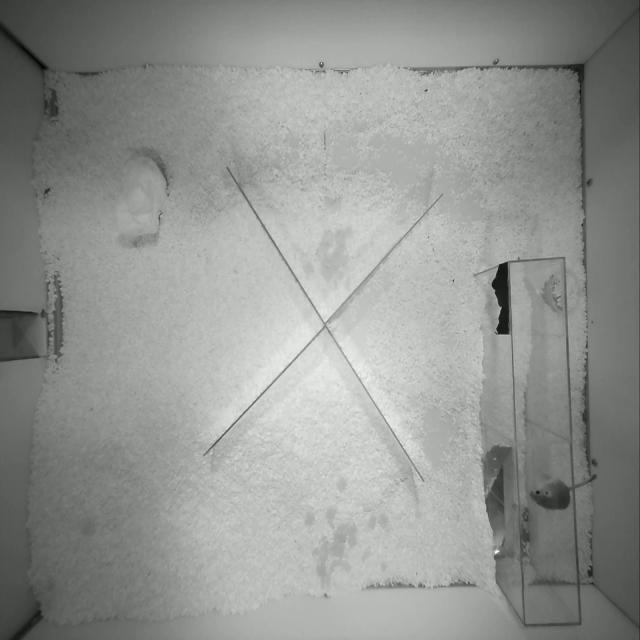pup_fluffy: (530, 474, 597, 510)
